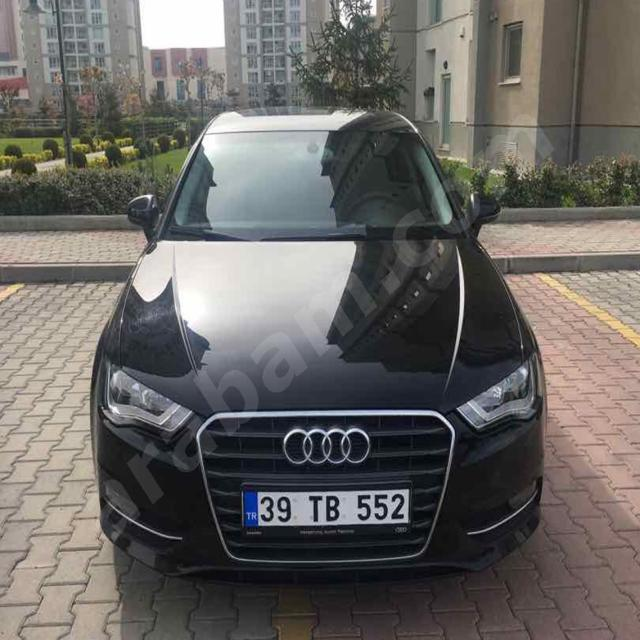license_plate: (242, 487, 408, 527)
